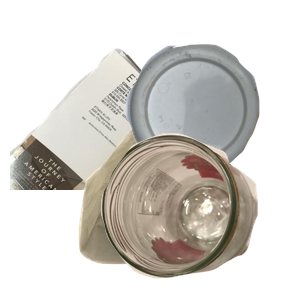glass: (98, 131, 300, 300)
paper: (10, 46, 250, 226)
plastic: (124, 42, 300, 210)
trash: (76, 124, 287, 300)
